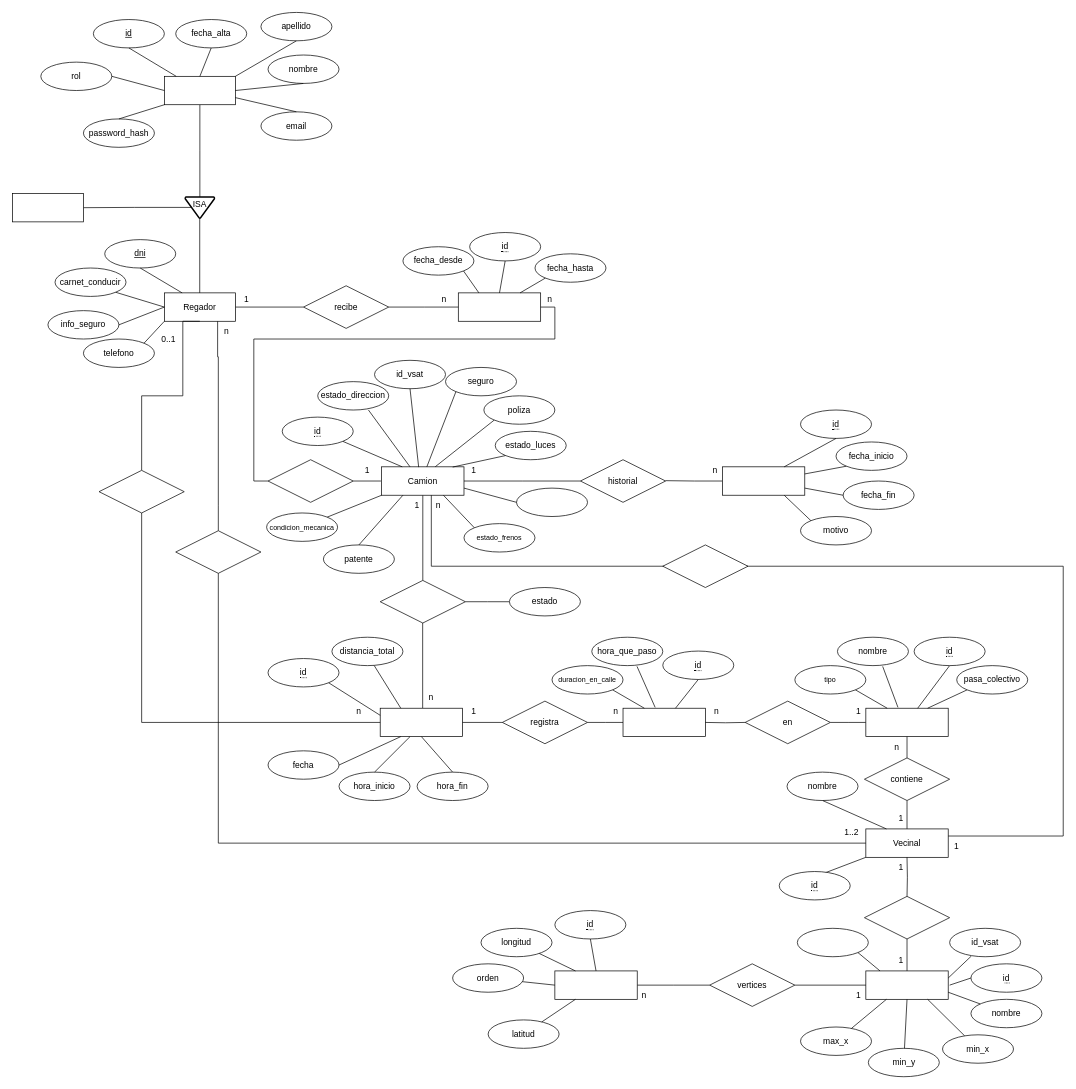
This 1076x1089 diagram has some shape labels left out. Here are the shapes that lost their labels. From the top down, the centre of each, then its label:
point (199, 90): Usuario
point (47, 207): SuperUsuario
point (499, 306): AsignacionCamion
point (141, 491): conduce
point (310, 480): asignado
point (763, 480): Deshabilitacion
point (552, 502): vtv_venc
point (218, 551): trabaja_en
point (705, 566): tiene
point (422, 601): realiza
point (421, 722): Recorrido
point (663, 722): PasoPorCalle
point (906, 722): Calle
point (907, 917): delimita
point (832, 942): max_y
point (595, 984): Coordenada
point (906, 984): Geocerca
